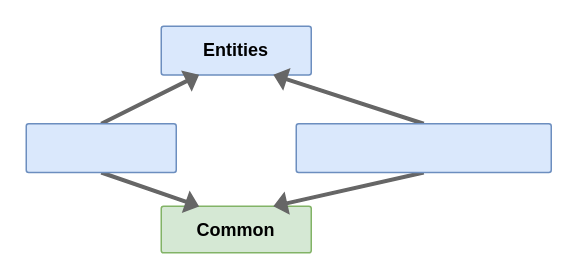
Image size: 578x279. Some labels were removed from this diagram. The box of each missing label's shape, as (x1, y1, x2, y2) in pixels:
Feature Tests: (25, 122, 176, 172)
Performance Benchmarks: (295, 122, 551, 172)
